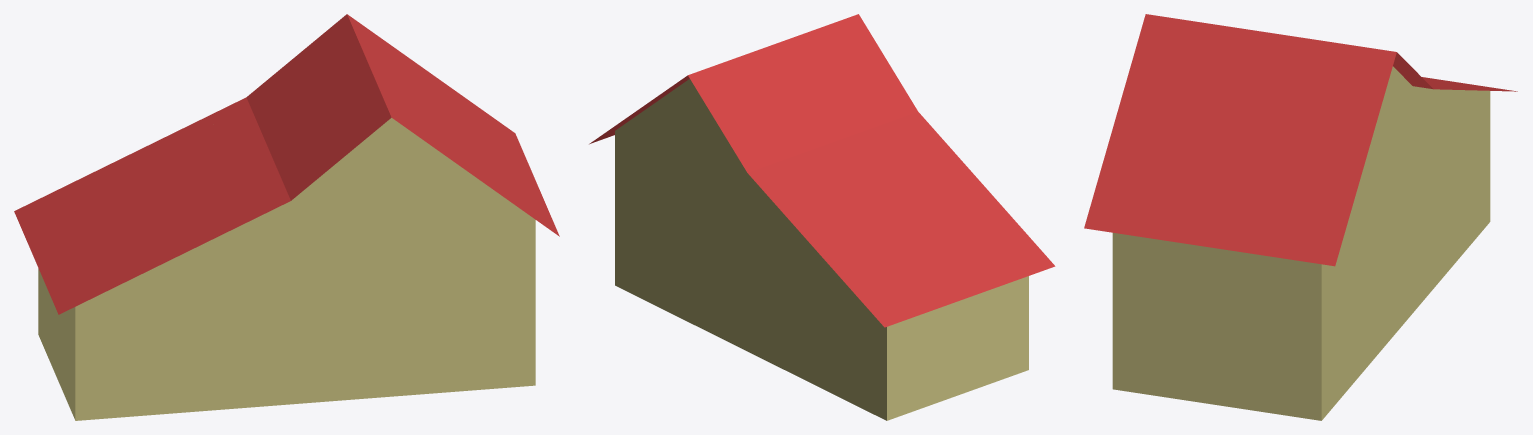
3 views of the same model, side by side, from view 1: azimuth 30°, elevation 25°; view 2: azimuth 150°, elevation 25°; view 3: azimuth 270°, elevation 25° (orthographic). The views are drawn at different scales.
Size of the model in its own units: 26.93 by 19.41 by 15.18.
